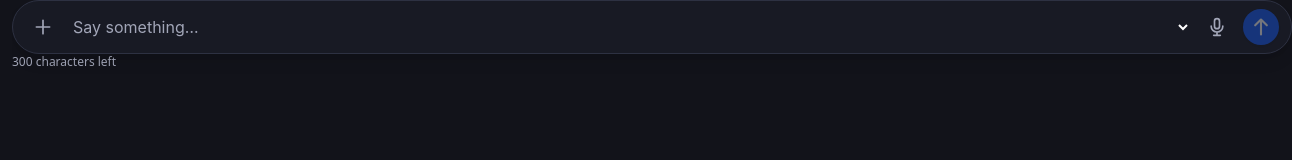
Test: MessageInput - User Story 9 (RAG Document Upload via Attachment Dropdown and Sticky Pill) › toggles the Attachment dropdown menu with Browse files and resume.pdf separated by a divider
// Click to open dropdown
Click the button named "Add attachment" at x=43, y=27, box [25,9,61,45]
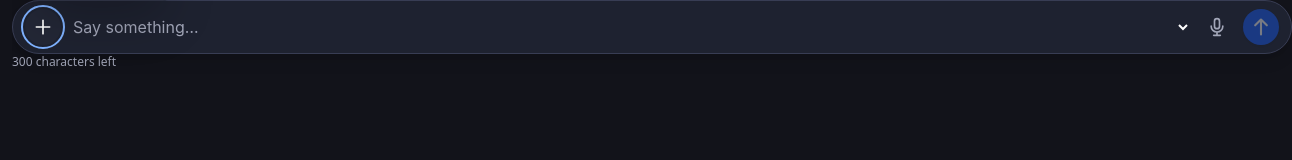
expect the button named "Add attachment" is expanded: met
// Click to close
Click the button named "Add attachment" at x=43, y=27, box [25,9,61,45]
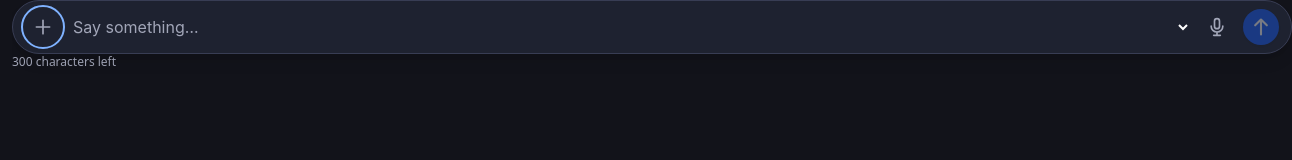
expect the button named "Add attachment" is collapsed: met, box [25,9,61,45]
